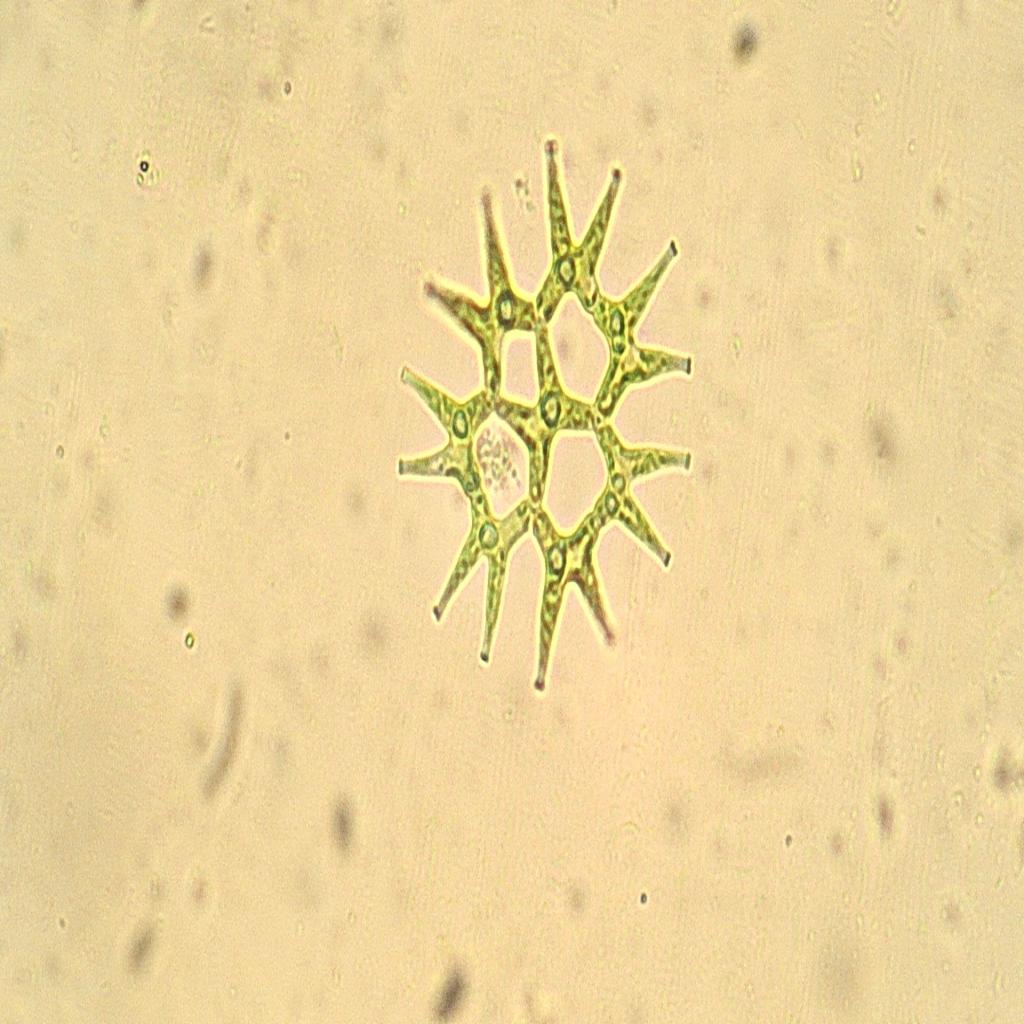Pediastrum_CTH: (378, 128, 712, 710)
